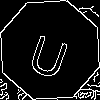U: (25, 25, 75, 81)
